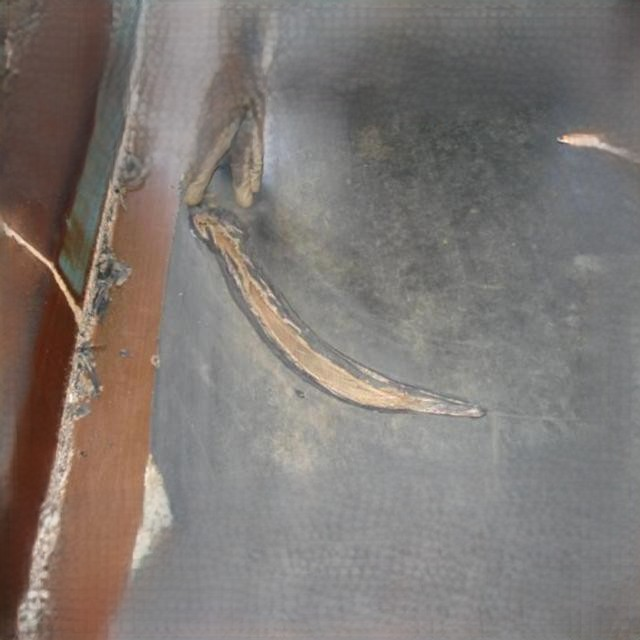Wear: (183, 202, 494, 426)
